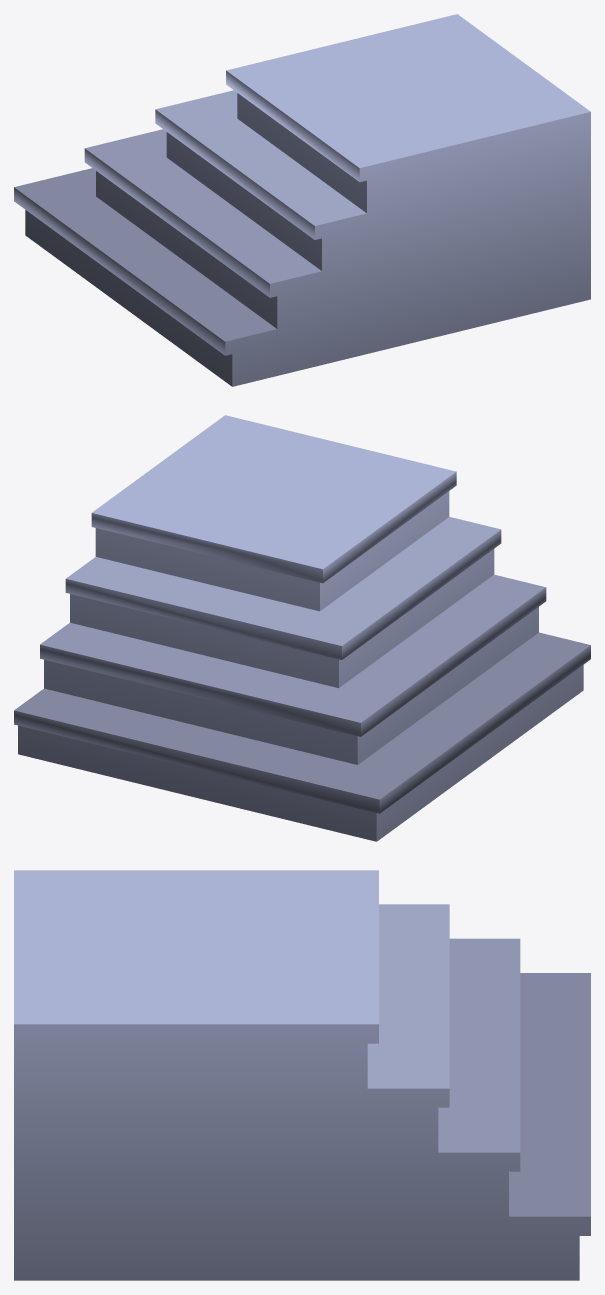
The model's file is stairs_full_corner_outer.glb.
3 renders of one model, top to bottom at view 1: azimuth 30°, elevation 25°; view 2: azimuth 150°, elevation 25°; view 3: azimuth 270°, elevation 25°, orthographic. The views are drawn at different scales.
Visible parts, largest first — view 1: stairs-full-corner-outer; view 2: stairs-full-corner-outer; view 3: stairs-full-corner-outer.
Boxes of the visible parts, x1,y1,x2,y2 form: stairs-full-corner-outer: (14, 14, 590, 386); stairs-full-corner-outer: (14, 415, 590, 841); stairs-full-corner-outer: (14, 870, 590, 1280).
Size of the model in its own units: 1.02 by 0.5 by 1.02.
1 material, 1 textured.
